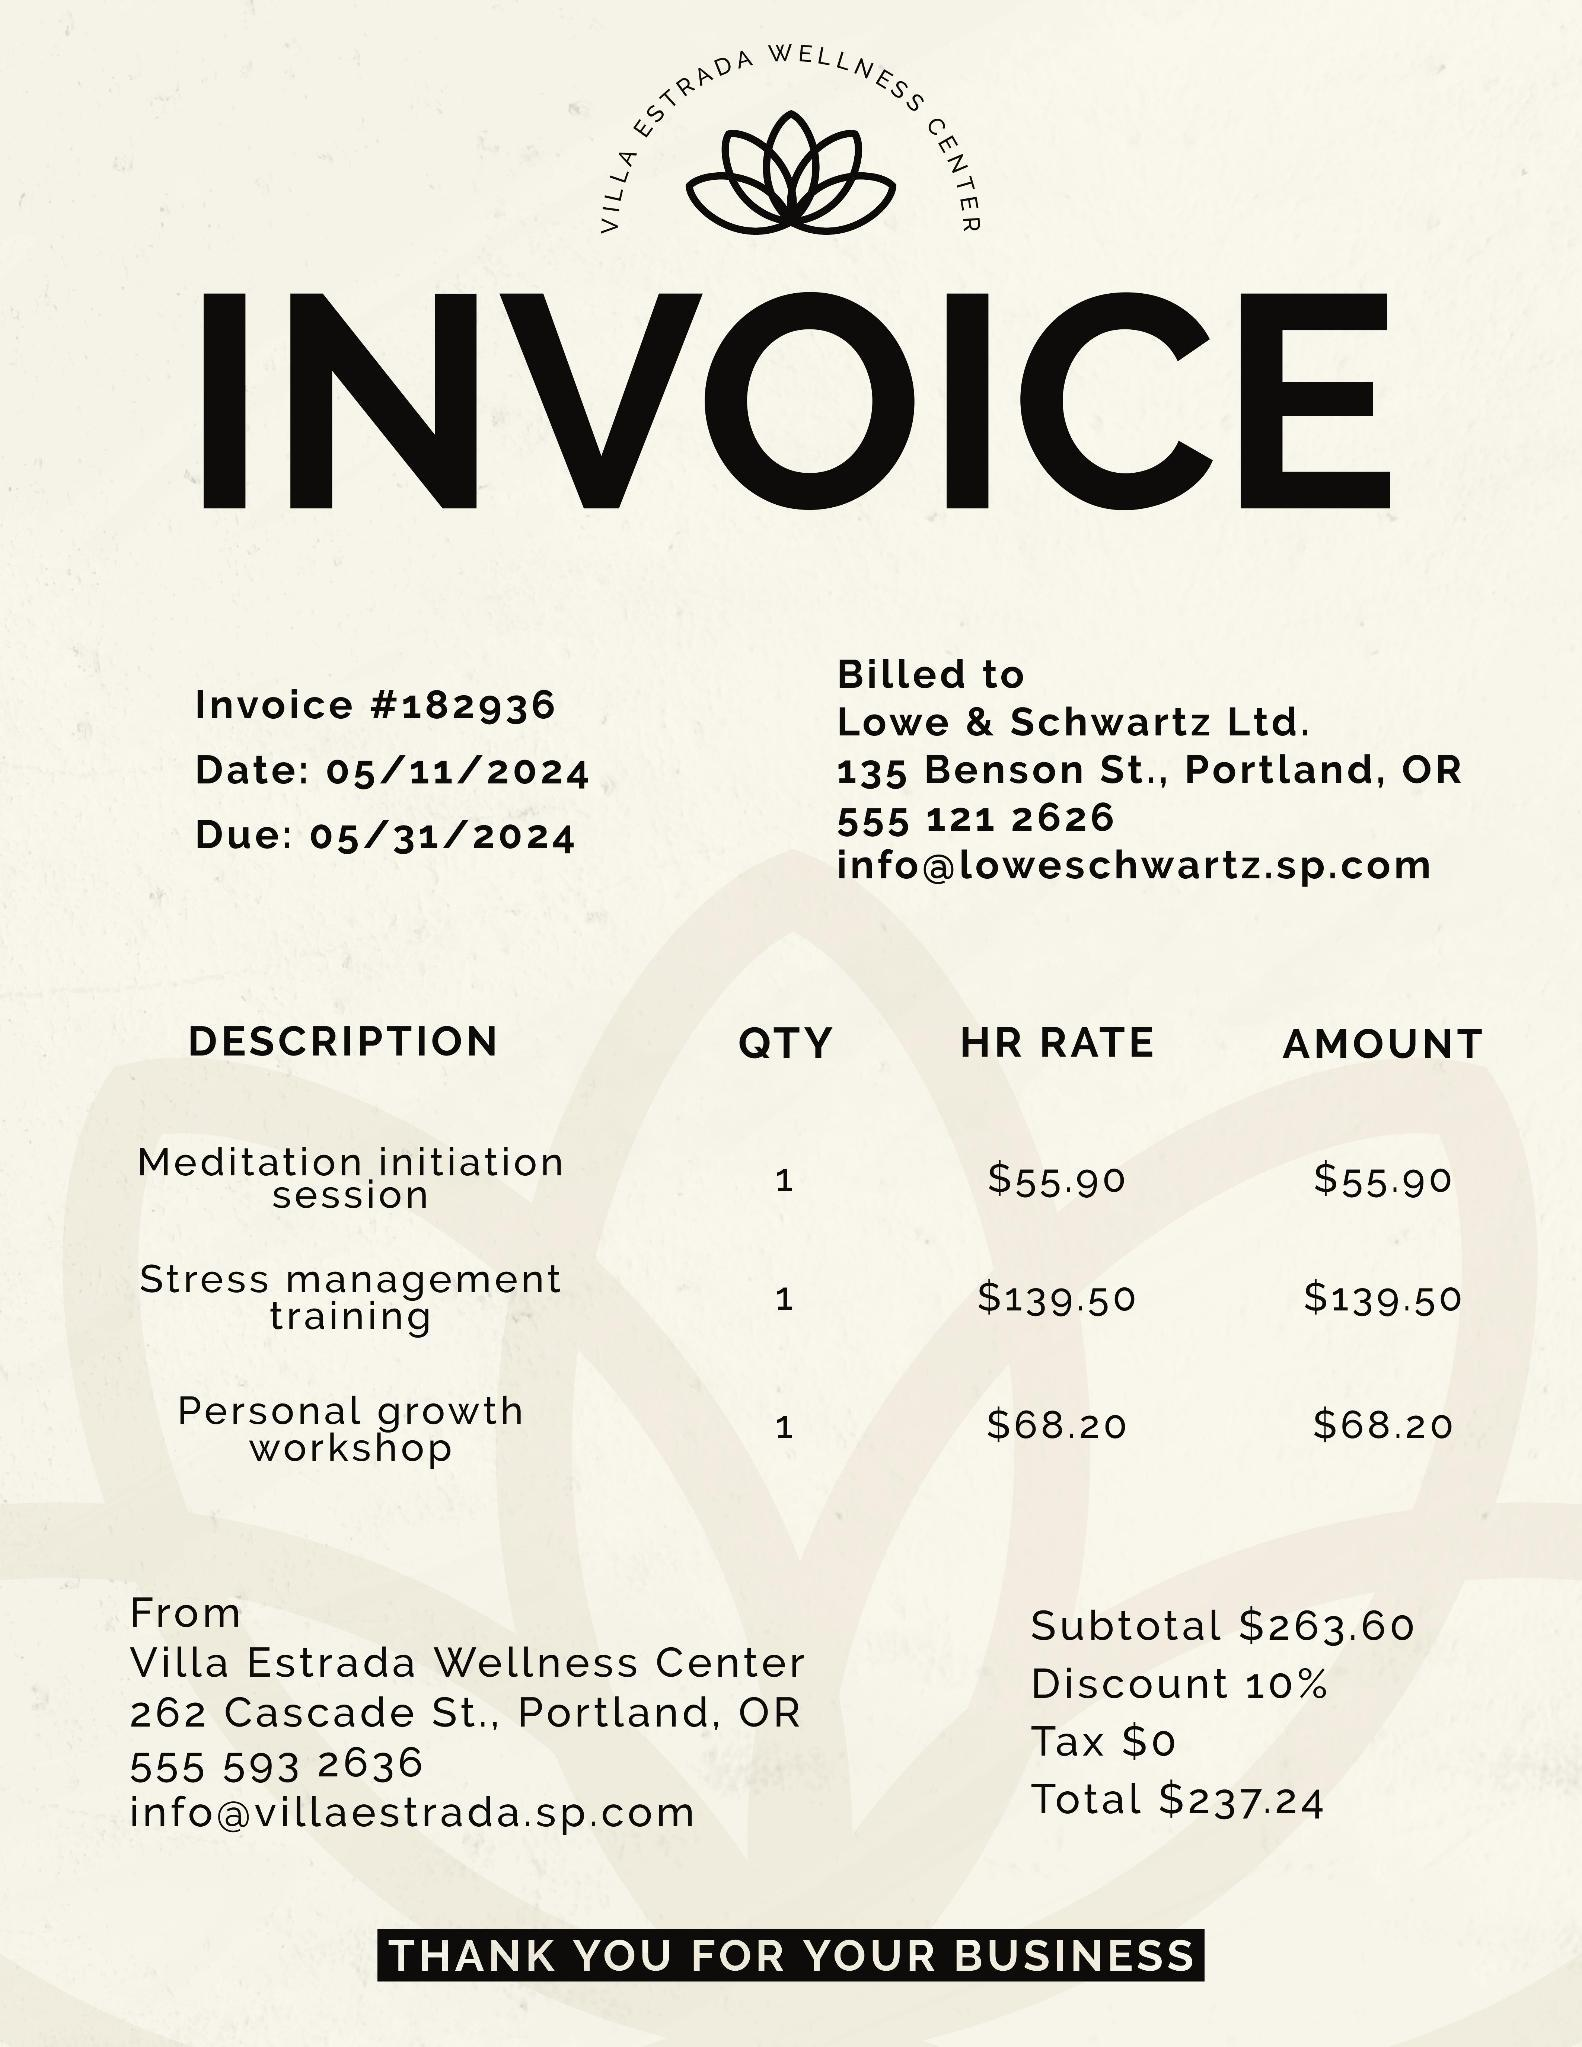ROI: (102, 974, 1506, 1511), (95, 273, 1436, 555), (88, 1569, 849, 1865), (810, 616, 1499, 918), (467, 16, 1124, 250), (981, 1595, 1461, 1835), (154, 642, 615, 888), (359, 1912, 1238, 2015)
